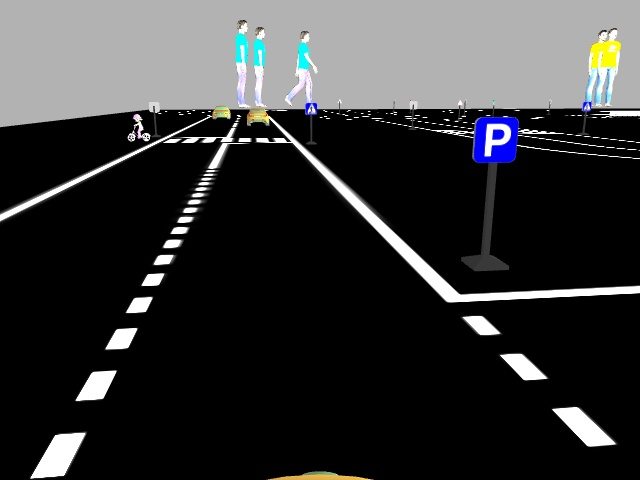Parking: (472, 115, 519, 163)
